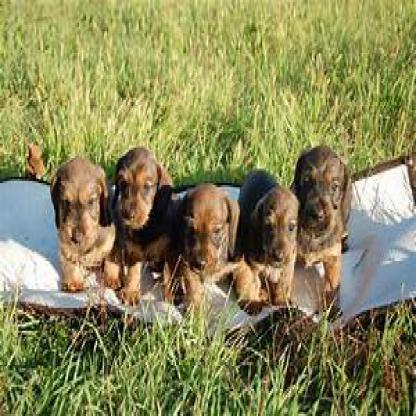dog: (294, 148, 355, 320), (113, 148, 174, 306), (50, 158, 119, 295), (177, 183, 240, 318), (240, 168, 299, 312)
